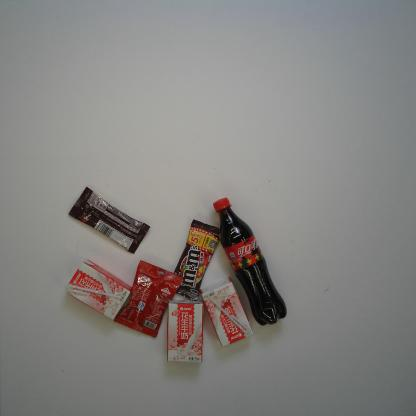Chocolate: (68, 186, 151, 254), (173, 218, 220, 302)
Drink: (212, 196, 288, 326)
Instant Drink: (113, 259, 184, 339)
Milk: (64, 258, 132, 320), (199, 276, 253, 348), (166, 298, 204, 364)
